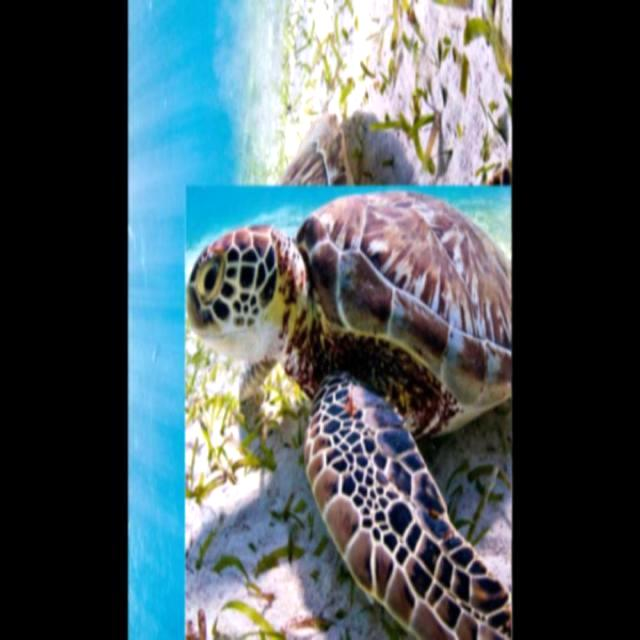Sea turtle: (207, 148, 512, 639)
